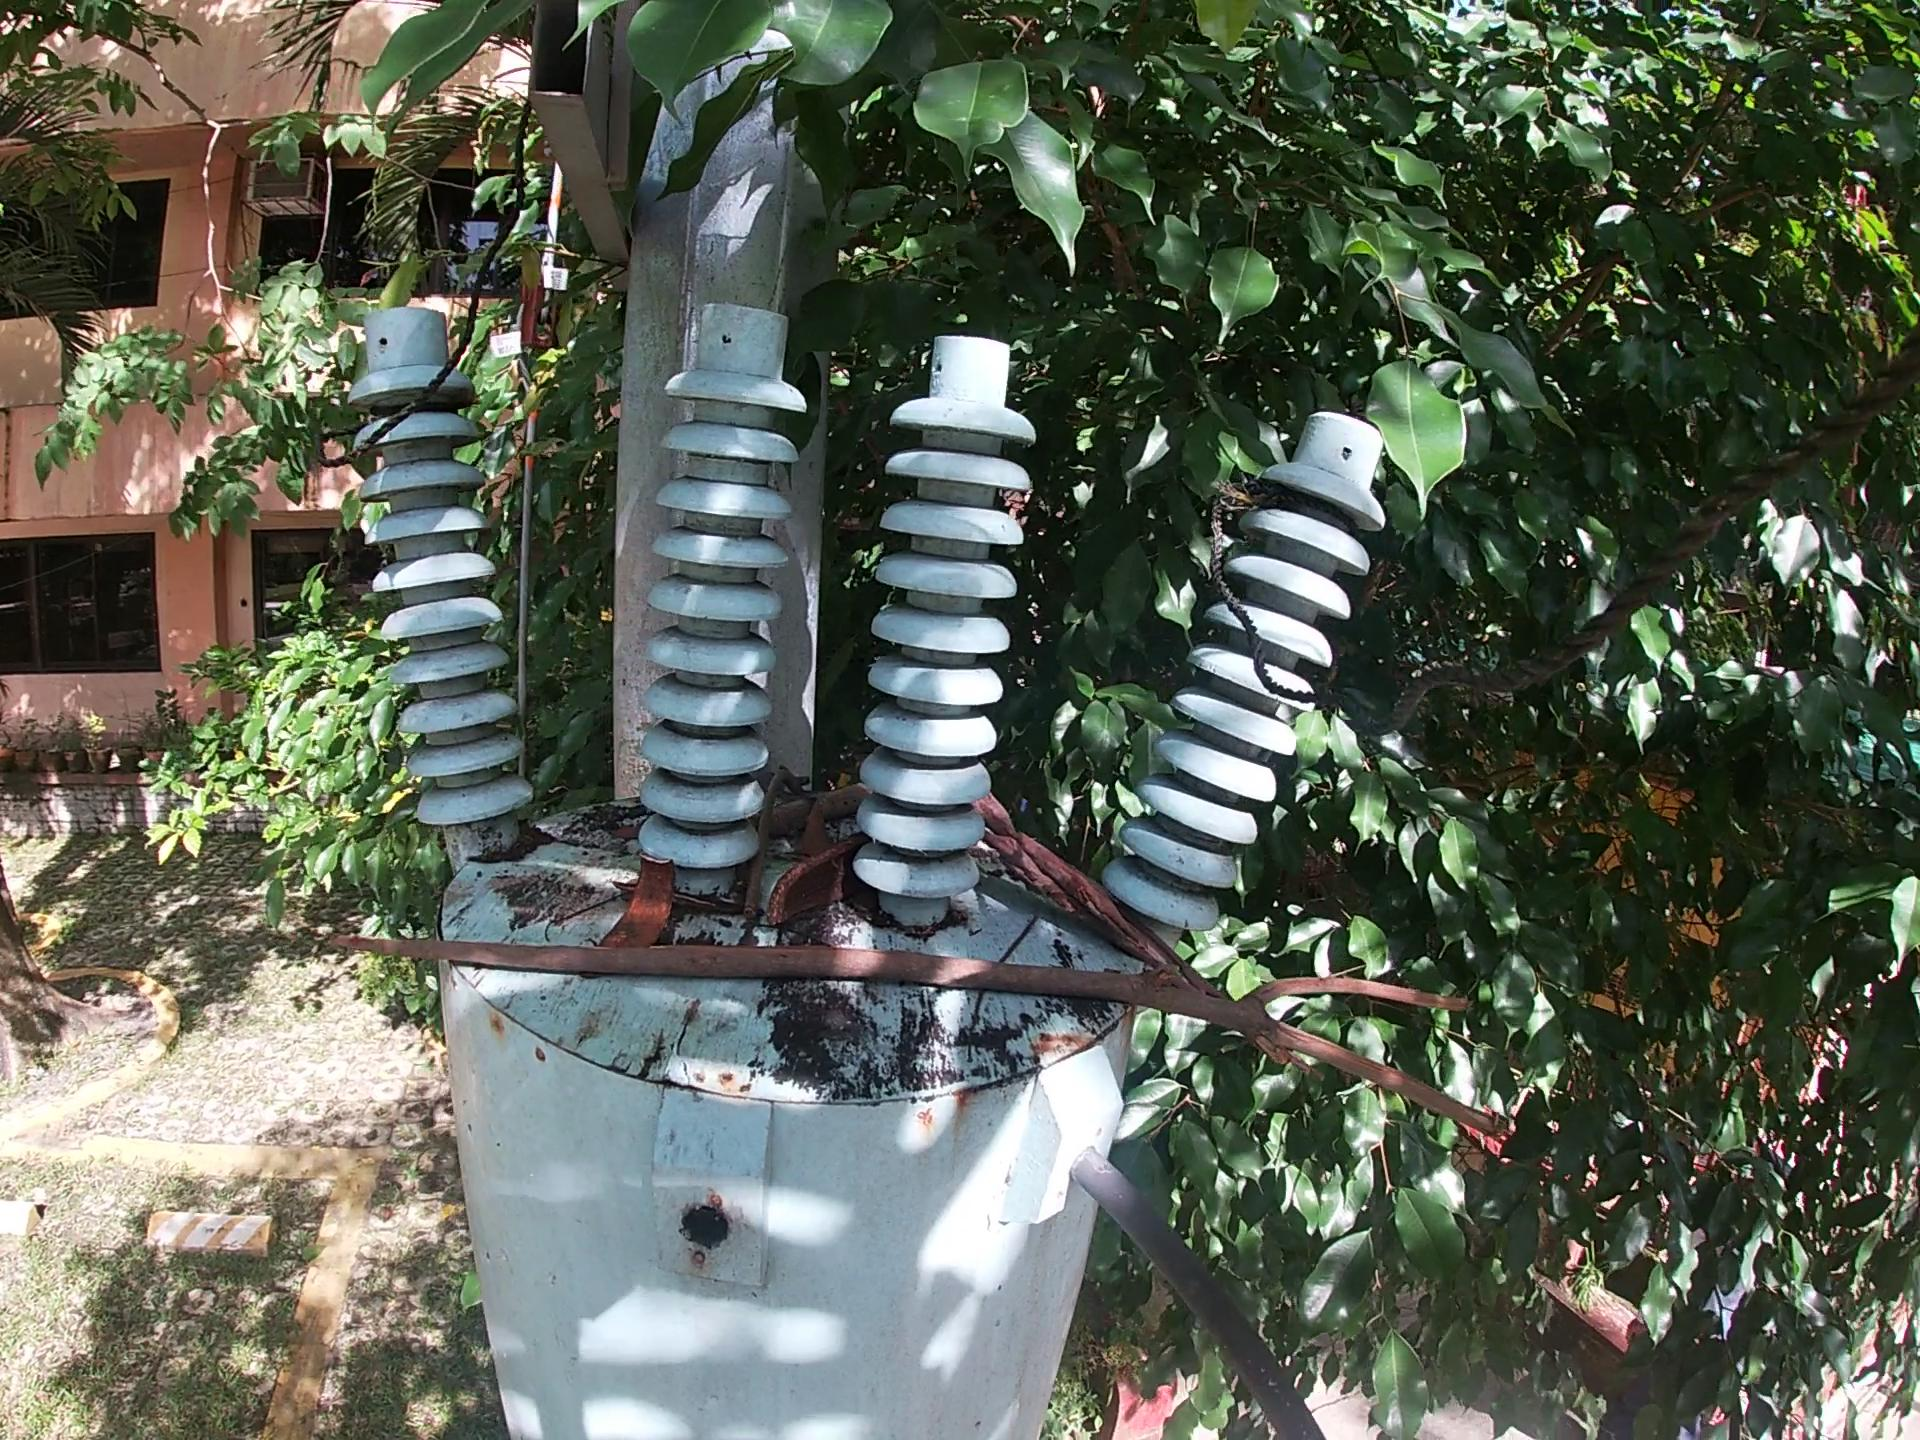leaf: (789, 794, 838, 874), (609, 824, 649, 846)
mahogany fruit: (762, 835, 878, 936), (590, 852, 689, 954)
tree branch: (317, 923, 1513, 1151), (972, 787, 1308, 1078), (732, 762, 815, 926), (754, 782, 871, 846)
